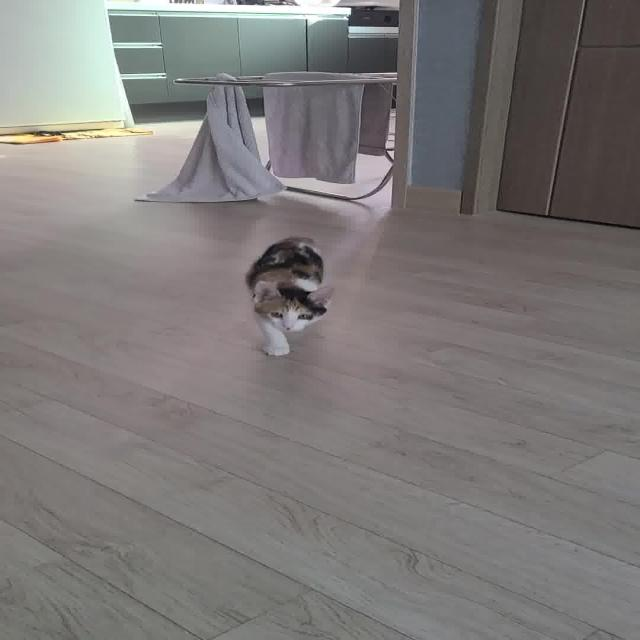cat: (237, 231, 345, 361)
